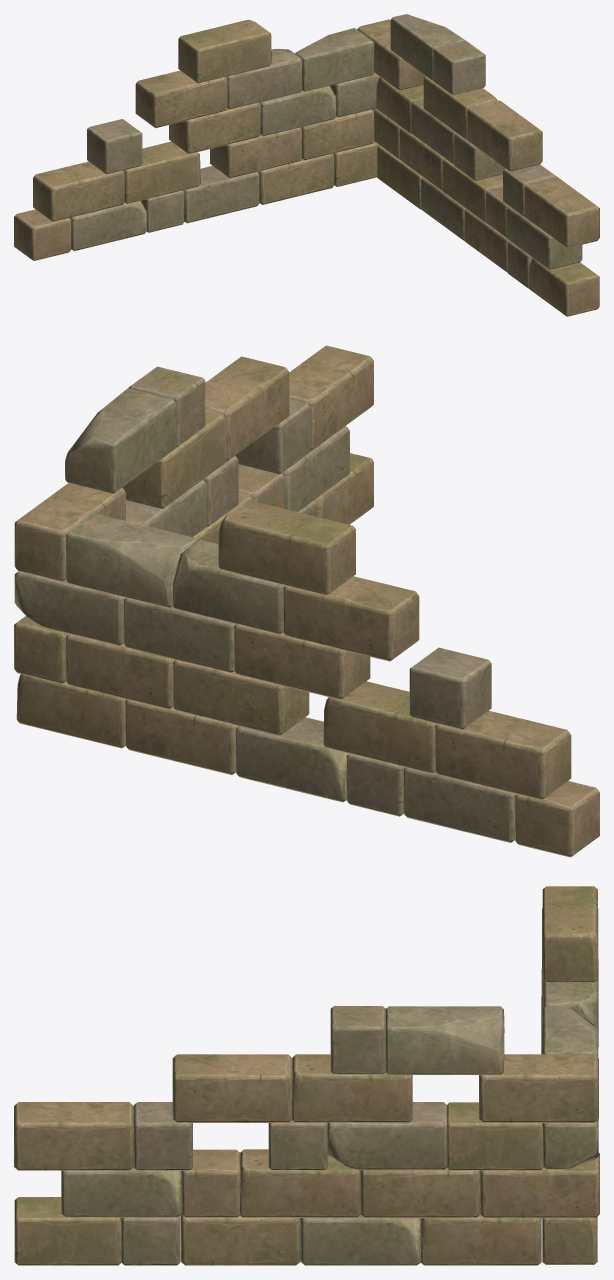
The model's file is SM_Crumbled_Brick_Corner_R.fbx.
3 views of the same model, one above another, from view 1: azimuth 30°, elevation 25°; view 2: azimuth 150°, elevation 25°; view 3: azimuth 270°, elevation 25° (orthographic). The views are drawn at different scales.
Parts seen in each view (by area): view 1: SM_Crumbled_Brick_Corner_R_LOD0; view 2: SM_Crumbled_Brick_Corner_R_LOD0; view 3: SM_Crumbled_Brick_Corner_R_LOD0.
Part boxes in pixels (bbox=[...]): SM_Crumbled_Brick_Corner_R_LOD0: bbox=[14, 14, 599, 316]; SM_Crumbled_Brick_Corner_R_LOD0: bbox=[14, 345, 599, 857]; SM_Crumbled_Brick_Corner_R_LOD0: bbox=[14, 886, 599, 1265].
Size of the model in its own units: 275 by 266 by 120.
1 material, 1 textured.
